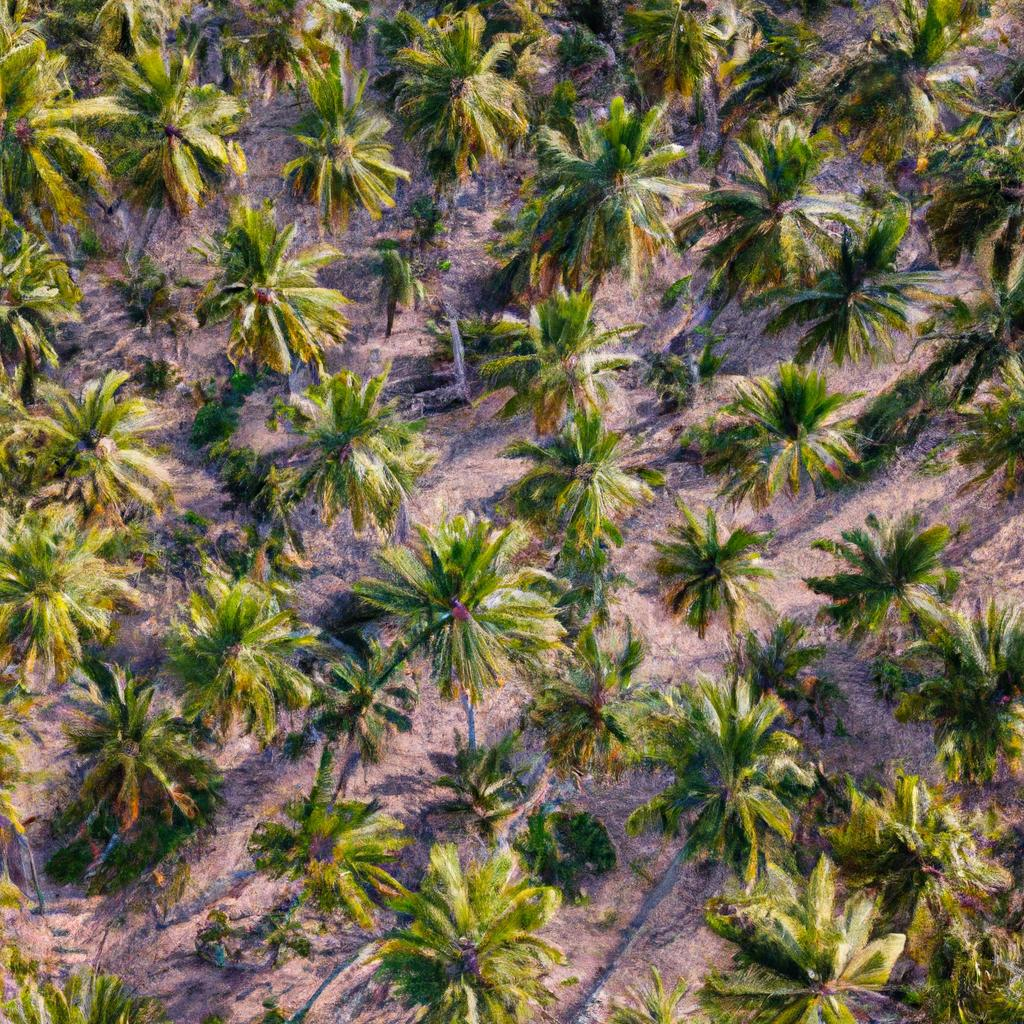coconut_tree: (638, 653, 832, 883), (522, 104, 724, 270), (384, 847, 573, 1023), (193, 207, 366, 385), (385, 4, 560, 177), (368, 526, 557, 686), (95, 48, 255, 224), (274, 375, 433, 534), (798, 494, 974, 637), (151, 572, 309, 726), (273, 70, 406, 245), (474, 283, 633, 428), (641, 477, 787, 634), (500, 412, 665, 550), (722, 339, 882, 481)
